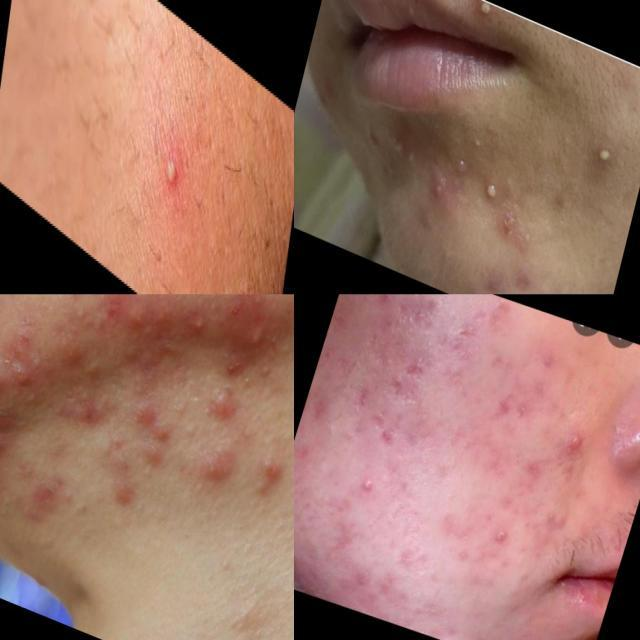Pimples: (206, 294, 290, 388), (184, 430, 246, 509), (376, 120, 424, 180), (484, 386, 534, 432), (396, 345, 444, 390), (183, 304, 224, 356), (554, 419, 598, 462), (150, 294, 190, 337), (119, 295, 153, 340), (348, 466, 384, 506), (160, 144, 183, 203), (477, 173, 505, 220), (372, 416, 407, 451), (376, 367, 410, 402), (518, 452, 552, 484), (595, 138, 623, 174), (224, 262, 252, 294), (0, 419, 16, 471), (429, 173, 451, 210), (488, 523, 514, 550), (474, 0, 496, 26), (372, 294, 398, 314), (0, 356, 9, 408)
